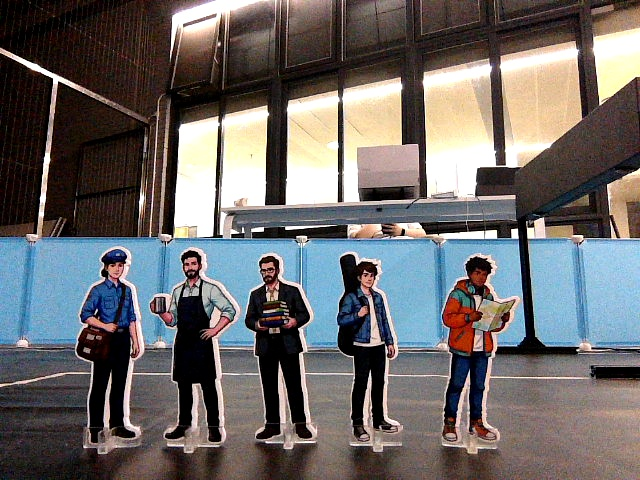community_person: (149, 242, 242, 458), (436, 248, 521, 457), (72, 238, 150, 457), (243, 248, 322, 455), (331, 247, 409, 455)
